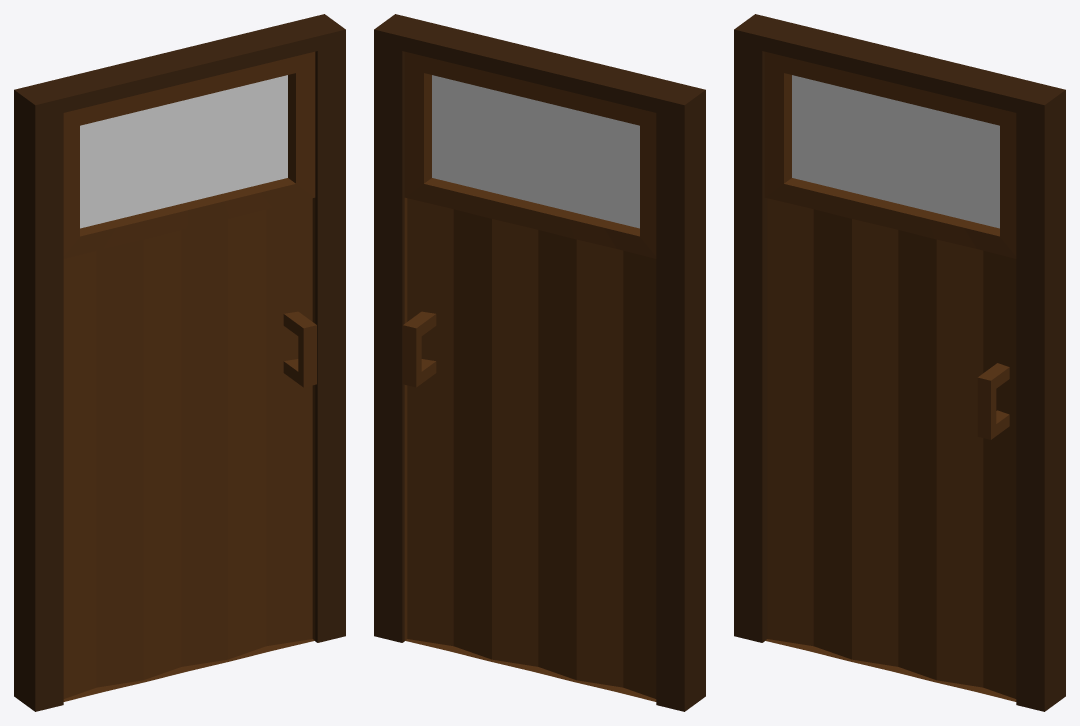
Rendered from door.fbx.
3 renders of one model, left to right at view 1: azimuth 30°, elevation 25°; view 2: azimuth 150°, elevation 25°; view 3: azimuth 330°, elevation 25°, orthographic.
Visible parts, largest first — view 1: door, door frame, door glass, door handle; view 2: door, door frame, door glass, door handle; view 3: door, door frame, door glass, door handle.
Boxes of the visible parts, left/top/right/bottom form: door: left=63, top=51, right=315, bottom=701; door frame: left=14, top=14, right=345, bottom=711; door glass: left=80, top=75, right=287, bottom=228; door handle: left=283, top=311, right=316, bottom=387; door: left=404, top=51, right=656, bottom=701; door frame: left=374, top=14, right=705, bottom=711; door glass: left=432, top=75, right=639, bottom=228; door handle: left=403, top=311, right=436, bottom=387; door: left=764, top=51, right=1016, bottom=701; door frame: left=734, top=14, right=1065, bottom=711; door glass: left=792, top=75, right=999, bottom=228; door handle: left=977, top=363, right=1009, bottom=439.
Bounding box in the file's own units: 110 × 28.21 × 205.
